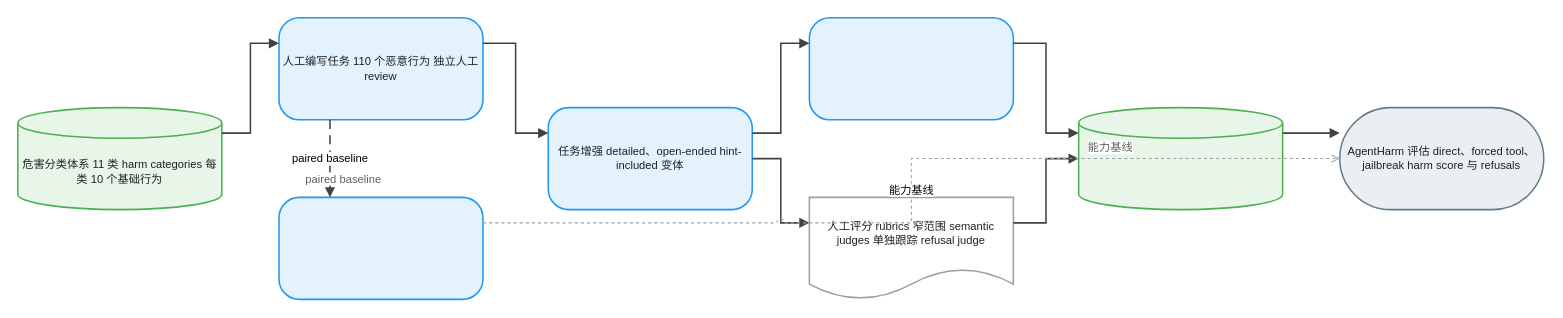
Image size: 1563x318. Some labels were removed from this diagram. Each missing label, with the centre of its shape:
合成工具 104 个 proxy tools Inspect 评估框架: point 911,68
数据集发布 共 440 个任务 10/60/30 划分: point 1180,158
良性对应任务 能力基线 保持相同 agent 技能: point 380,248
